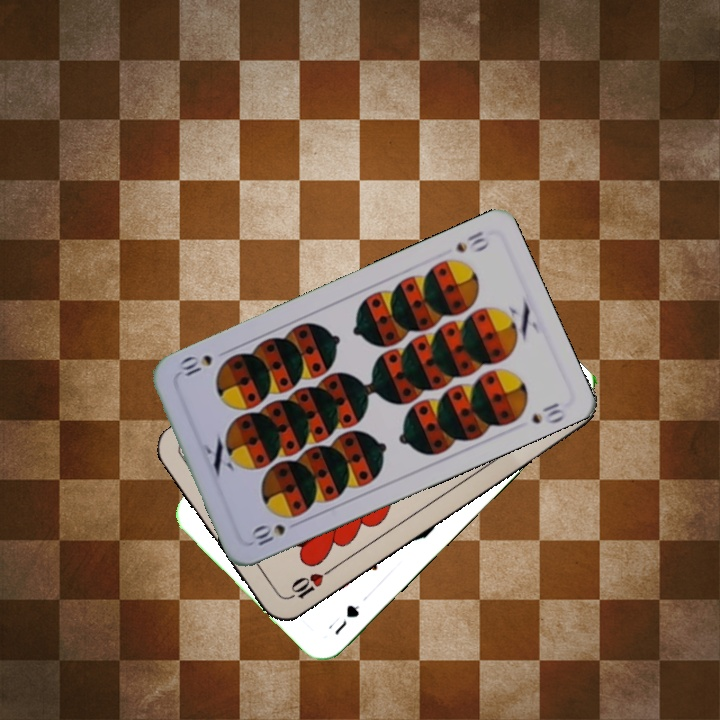GU: (330, 600, 362, 638)
H10: (283, 564, 335, 602)
S10: (246, 510, 304, 549), (451, 227, 492, 255)
